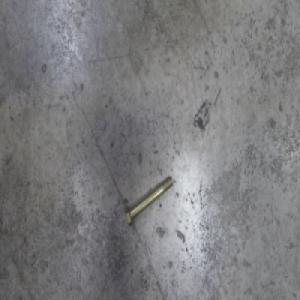Bolt: (124, 172, 174, 230)
